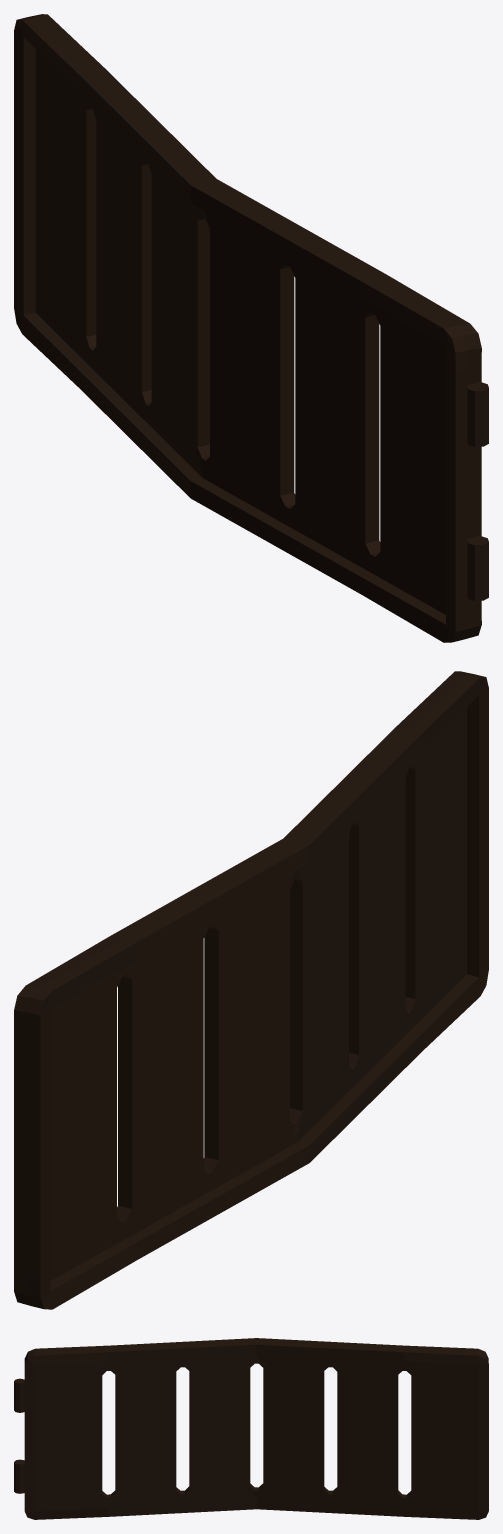
Rendered from SFFA_Forge_Oven_CabinetDoor.fbx.
3 views of the same model, one above another, from view 1: azimuth 30°, elevation 25°; view 2: azimuth 150°, elevation 25°; view 3: azimuth 270°, elevation 25° (orthographic). The views are drawn at different scales.
Visible parts, largest first — view 1: SFFA_Forge_Oven_CabinetDoor; view 2: SFFA_Forge_Oven_CabinetDoor; view 3: SFFA_Forge_Oven_CabinetDoor.
Part boxes in pixels (box(x1,y1,x2,y2)): SFFA_Forge_Oven_CabinetDoor: box(14, 14, 488, 642); SFFA_Forge_Oven_CabinetDoor: box(14, 671, 488, 1309); SFFA_Forge_Oven_CabinetDoor: box(14, 1338, 488, 1519).
Size of the model in its own units: 7.7 by 32.11 by 83.73.
